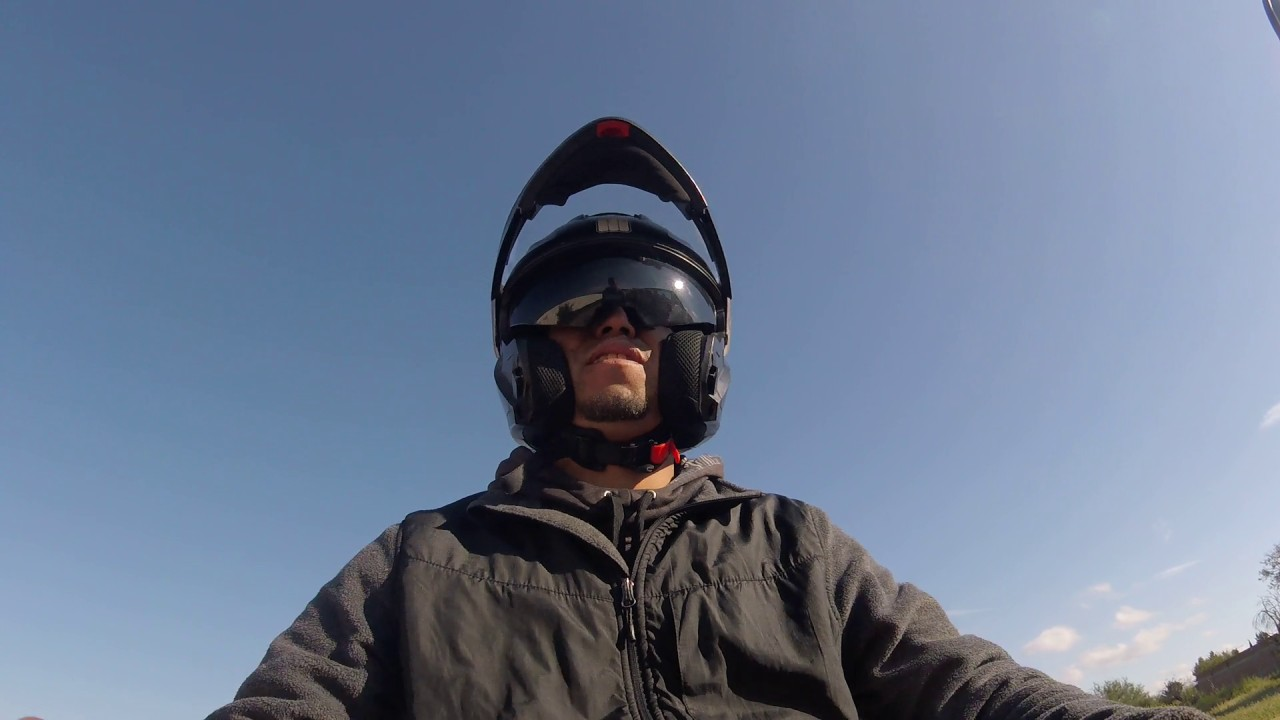With Helmet: (482, 105, 740, 463)
